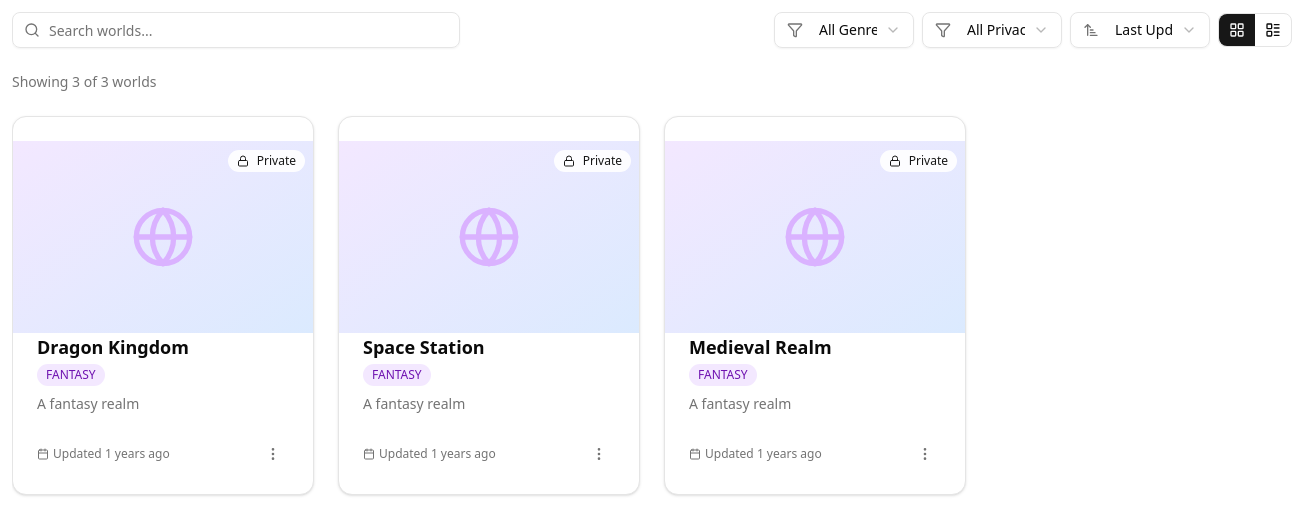
it: WorldsList › Results Summary › shows filtered count when filters active
The width and height of the screenshot is (1304, 513).
In the field with placeholder "Search worlds...": (236, 30) [12,12,460,48], type "dragon"
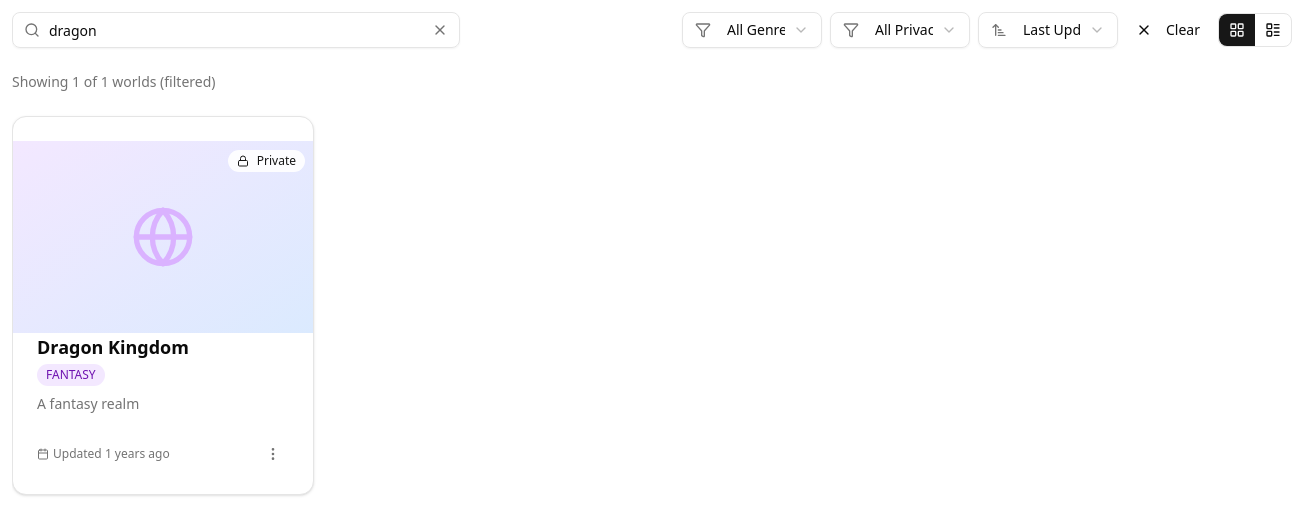
expect the text "Showing 1 of 1 worlds (filtered)" is shown: met, box [12,72,216,91]
